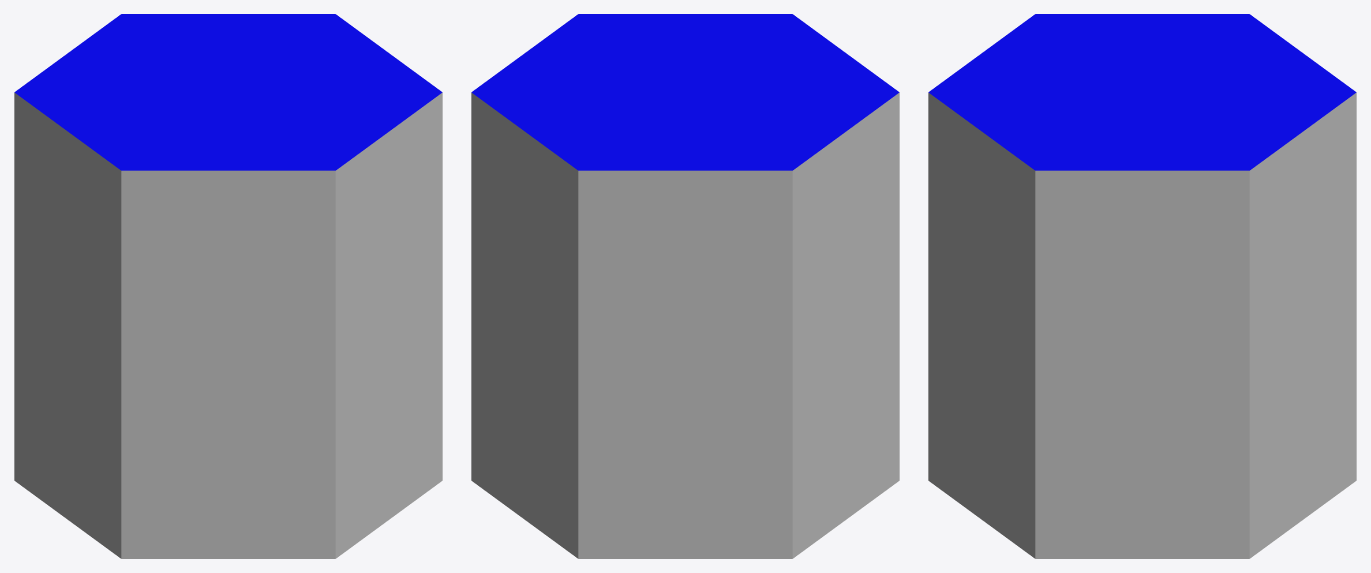
Rendered from HexCellWater.fbx.
3 views of the same model, side by side, from view 1: azimuth 30°, elevation 25°; view 2: azimuth 150°, elevation 25°; view 3: azimuth 270°, elevation 25° (orthographic).
Visible parts, largest first — view 1: Circle; view 2: Circle; view 3: Circle.
Part boxes in pixels (left/top/right/bottom): Circle: left=14, top=14, right=442, bottom=558; Circle: left=471, top=14, right=899, bottom=558; Circle: left=928, top=14, right=1356, bottom=558.
Bounding box in the file's own units: 173 × 200 × 200.
